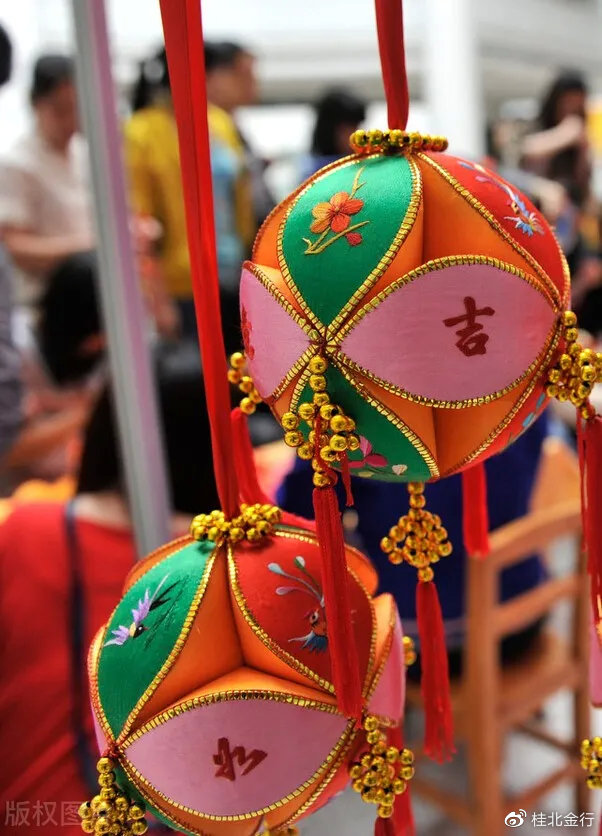xiuqiu: (244, 151, 578, 490), (84, 526, 407, 836)
